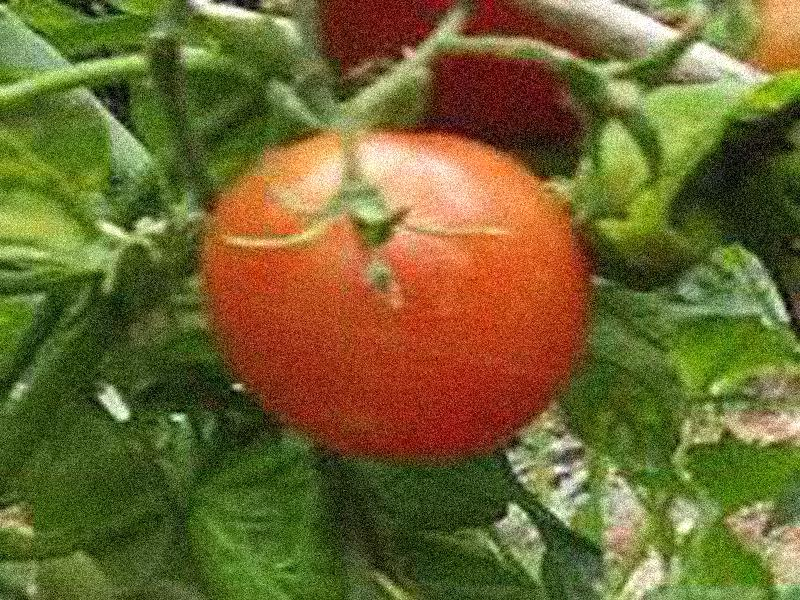Tomato: (205, 128, 583, 450)
